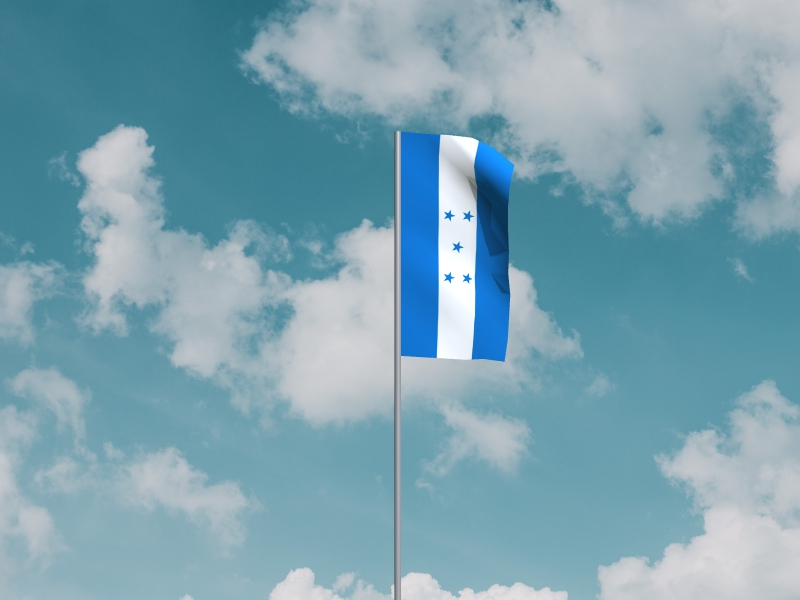hn: (402, 133, 516, 364)
